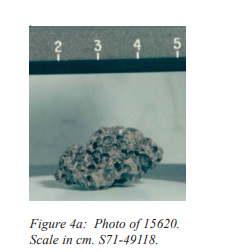Basalt: (45, 111, 163, 192)
